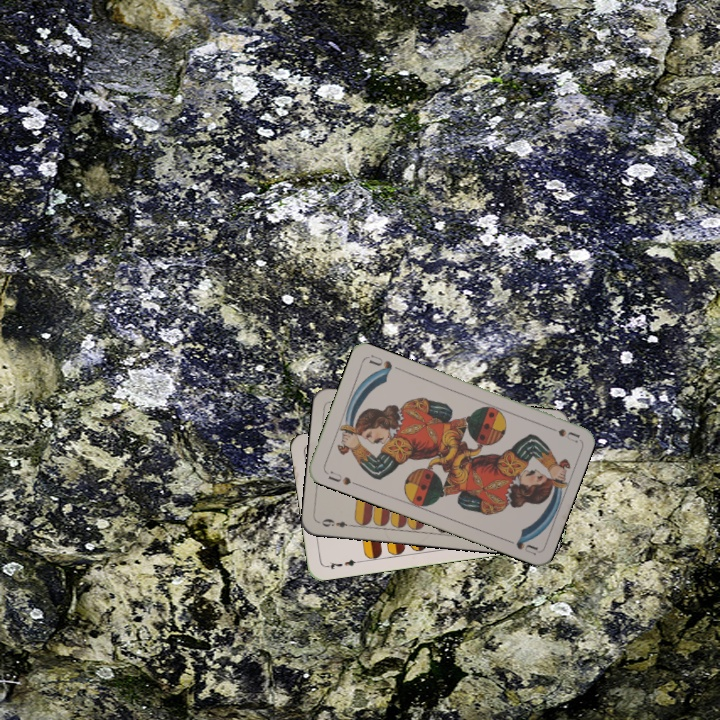E7: (322, 555, 363, 572)
E9: (318, 515, 356, 530)
SU: (541, 421, 581, 445), (324, 467, 361, 488)
